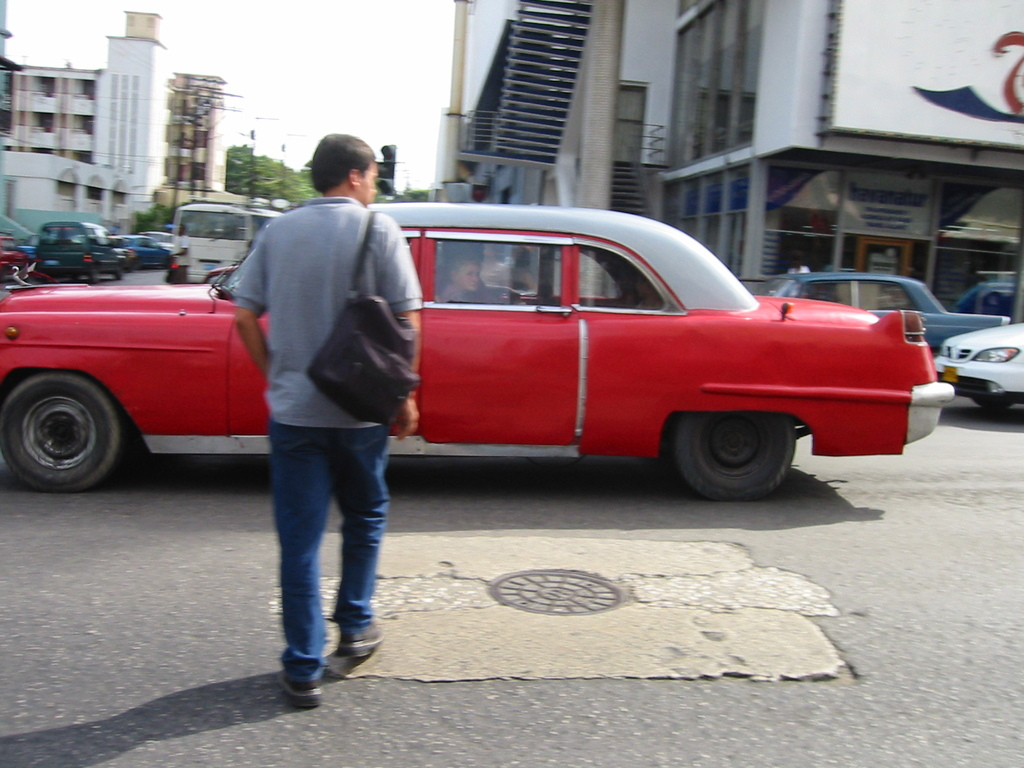Car: (0, 203, 954, 504), (752, 275, 1010, 352), (933, 321, 1023, 409), (36, 219, 125, 284), (116, 232, 170, 267), (139, 231, 172, 249)
